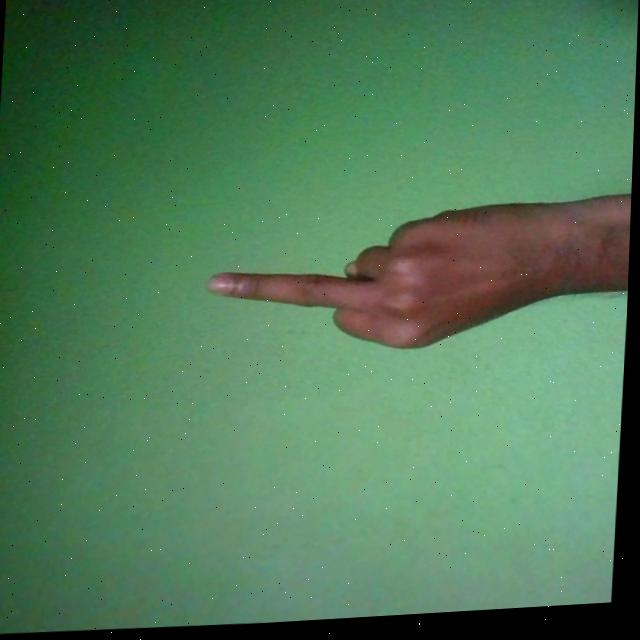Middle Finger: (202, 196, 600, 367)
